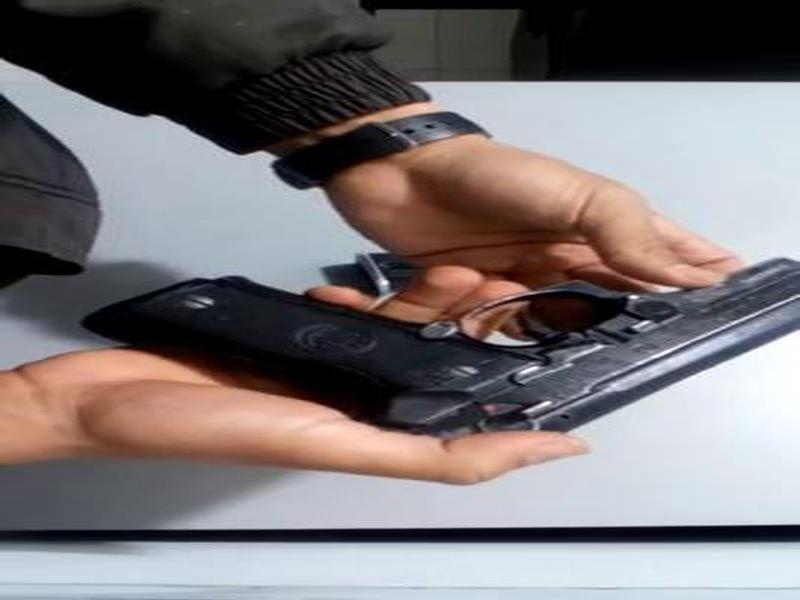Pistola: (137, 180, 793, 424)
